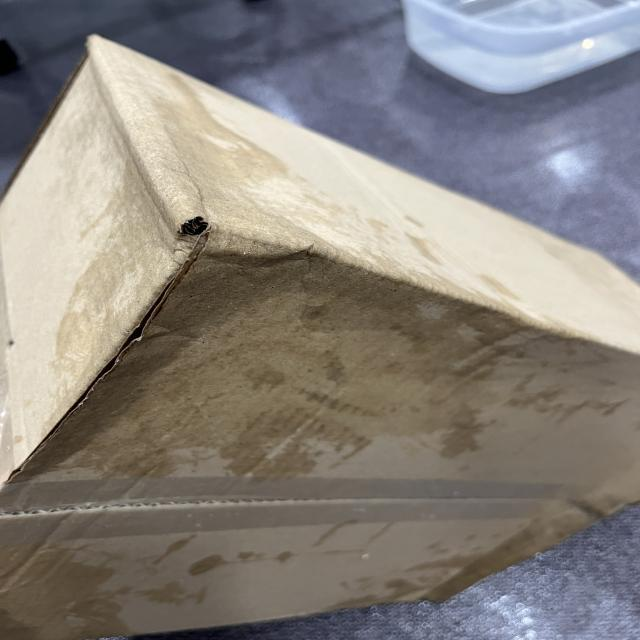wet: (92, 136, 472, 472)
